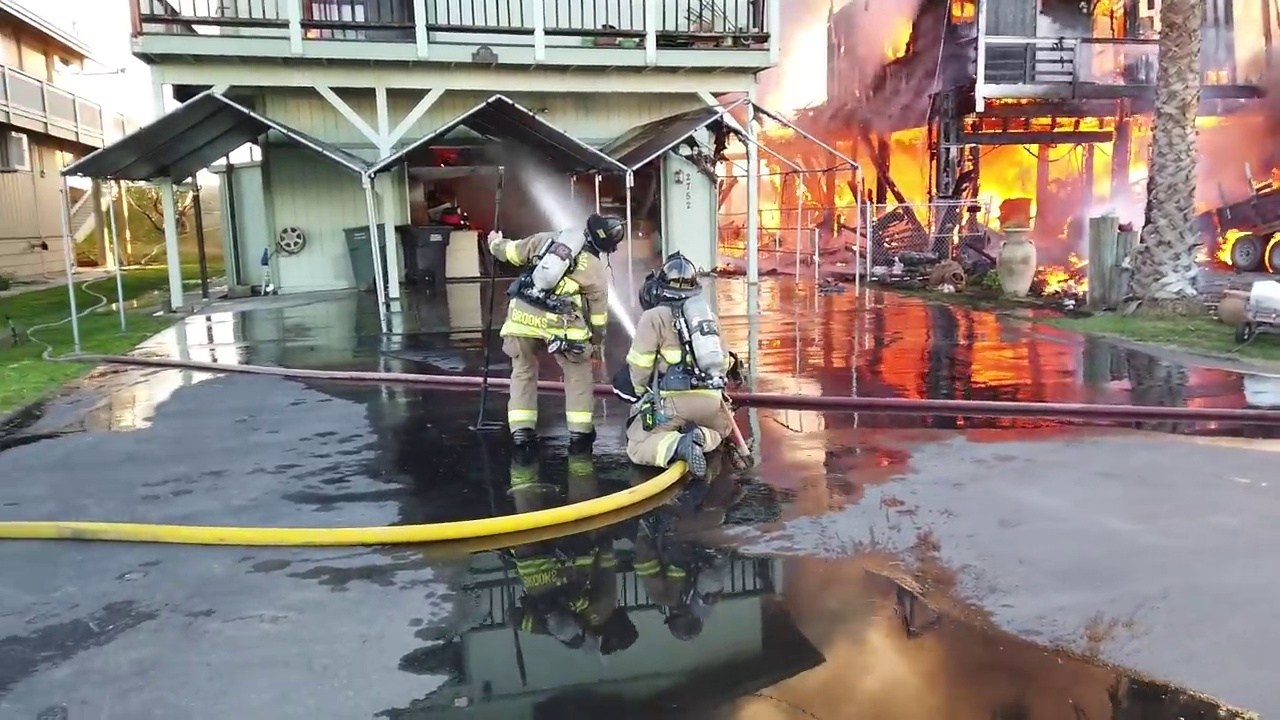fire: (825, 142, 1114, 202), (709, 123, 824, 255), (1209, 210, 1280, 288), (1030, 242, 1089, 312), (879, 3, 919, 61), (1094, 2, 1126, 40), (948, 2, 980, 25), (303, 28, 321, 36)
smoke: (1176, 1, 1280, 209), (761, 1, 879, 118), (1062, 186, 1144, 240), (880, 70, 930, 118)
